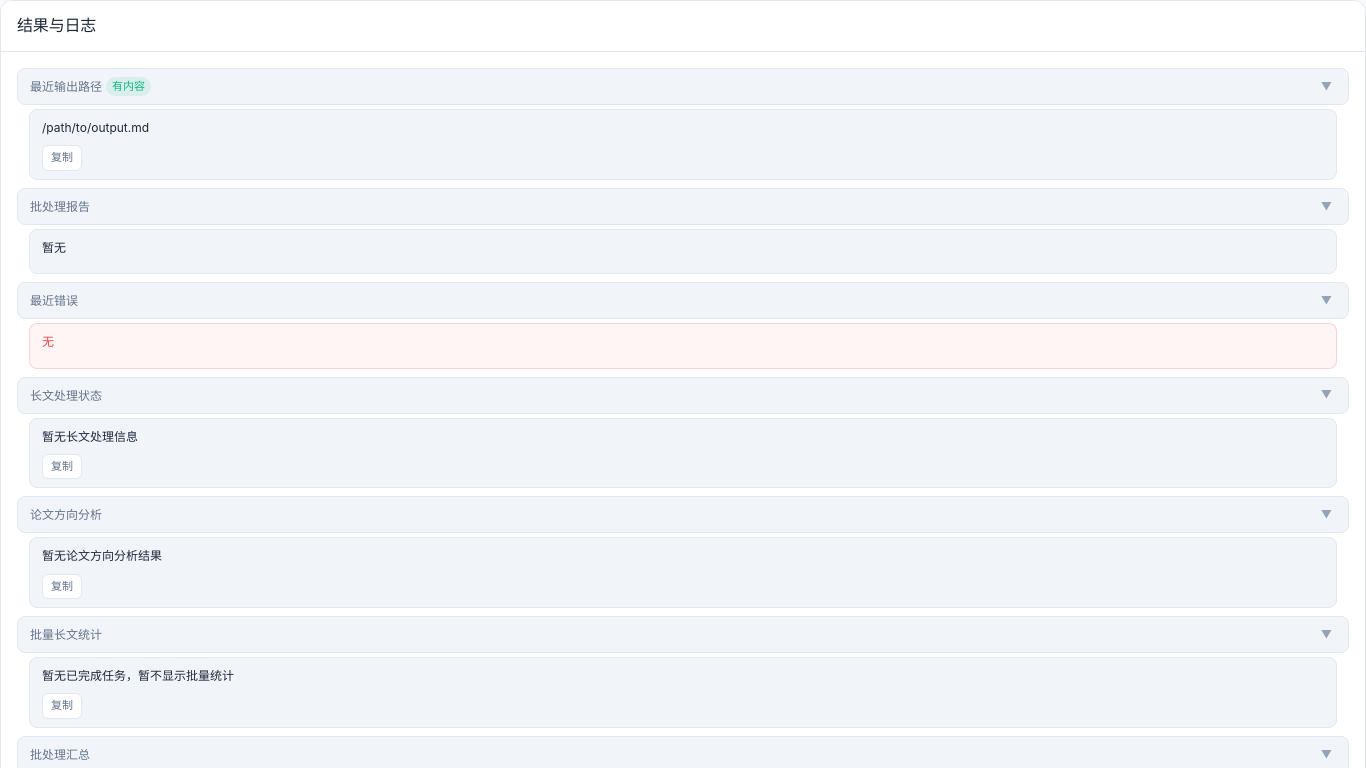
ResultPanel › should show copied feedback
Click the button "复制" below "/path/to/output.md". click: (62, 158)
box: [42,145,82,171]
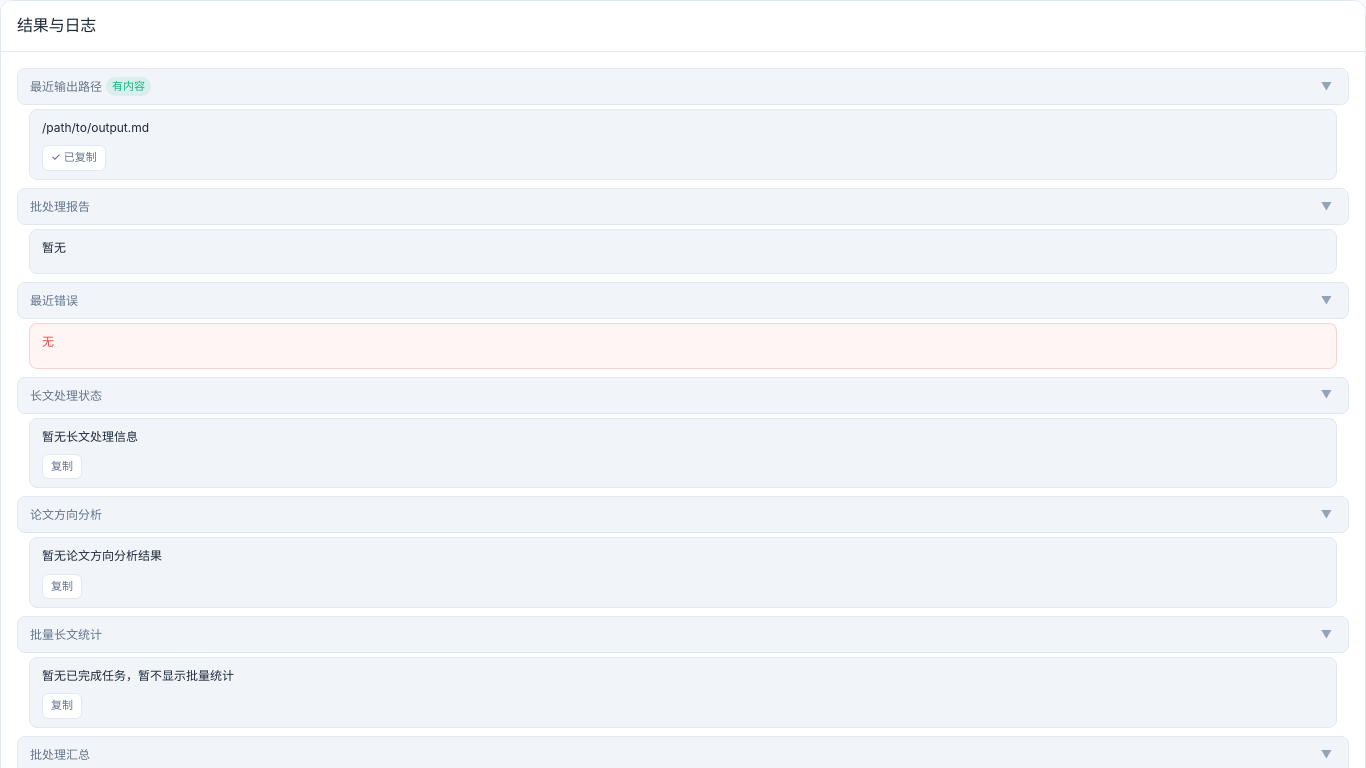
Expected: the button "✓ 已复制" is shown, [42,145,106,171]
